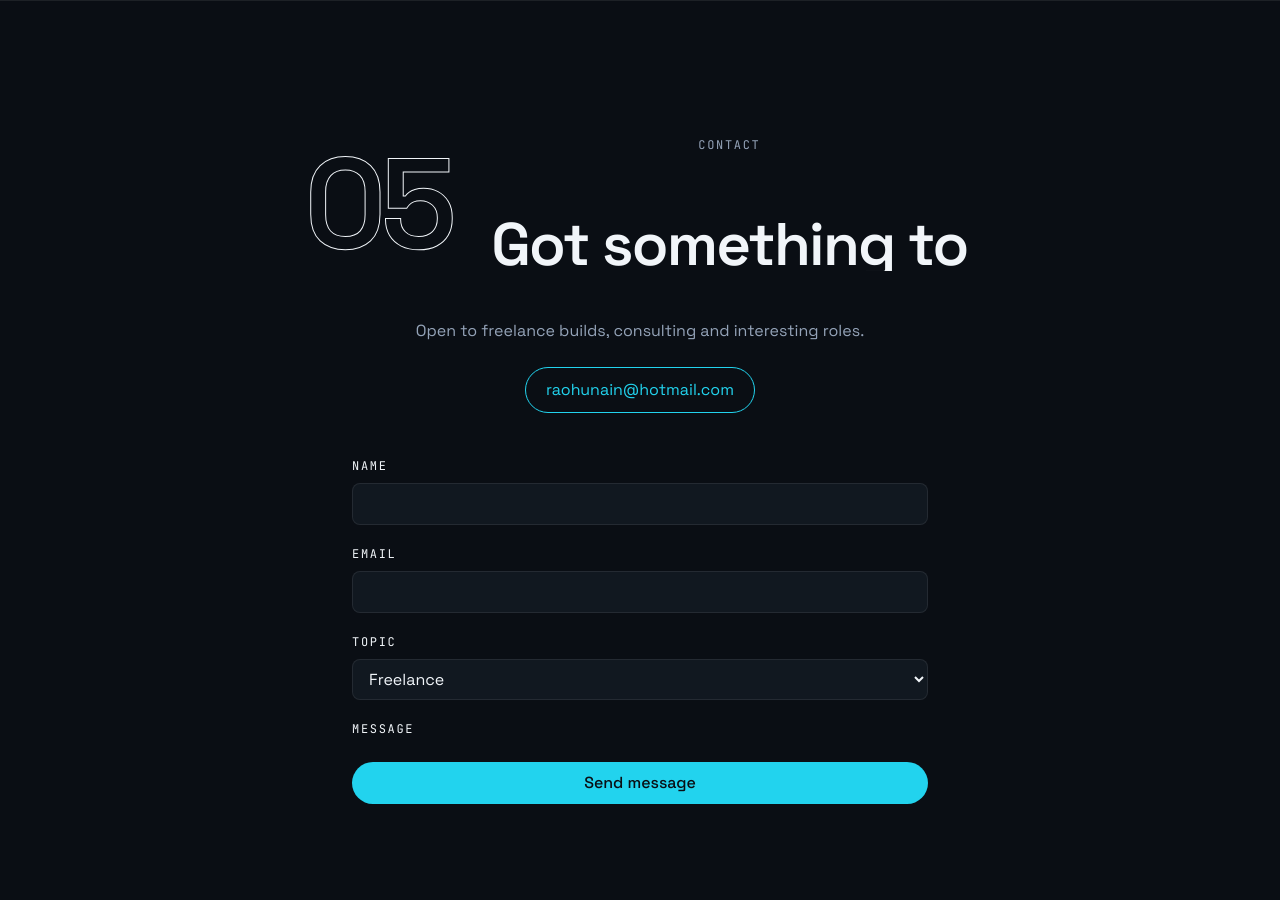
Scenario: ContactSection › shows validation errors when submitted empty
Click the button "Send message".
click(640, 783)  # box left=352, top=762, right=928, bottom=804
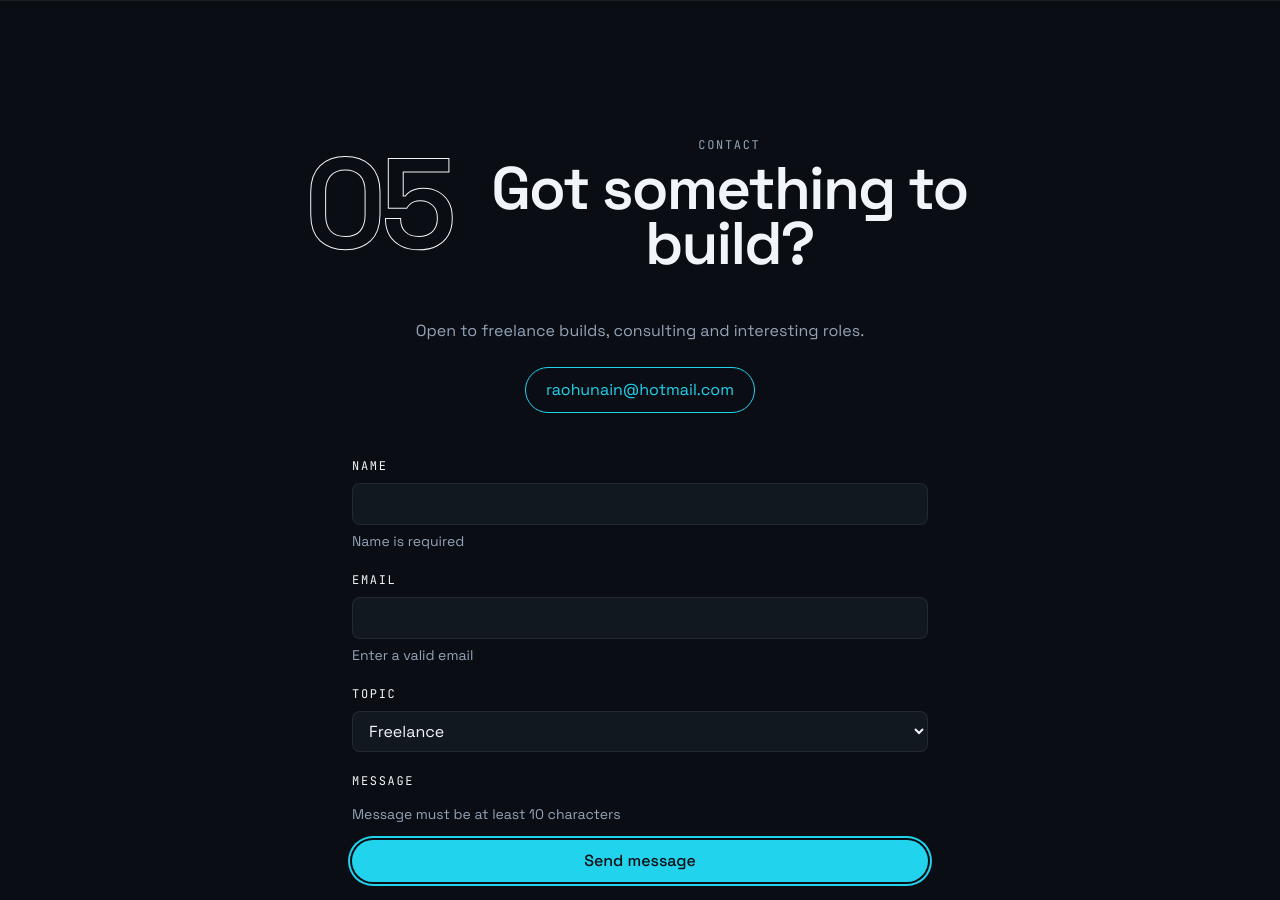
Now the text "Name is required" is shown, box left=352, top=532, right=464, bottom=550
Now the text "Enter a valid email" is shown, box left=352, top=646, right=473, bottom=664
Now the text "Message must be at least 10 characters" is shown, box left=352, top=805, right=620, bottom=823
